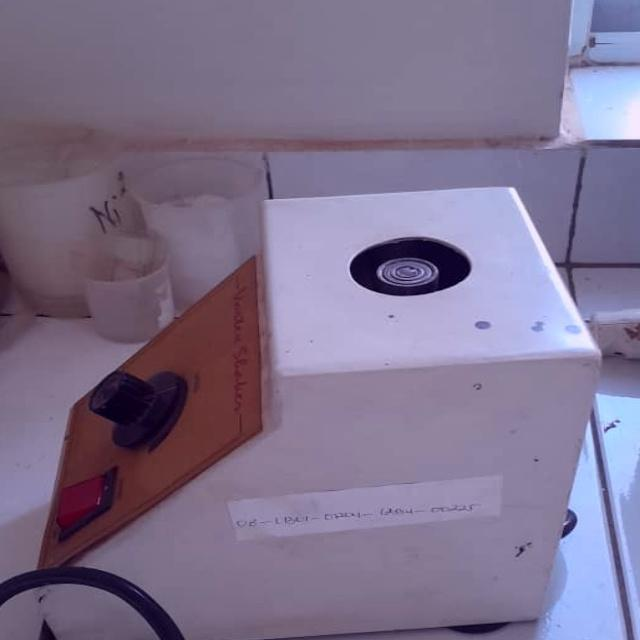Vortex: (22, 178, 604, 636)
